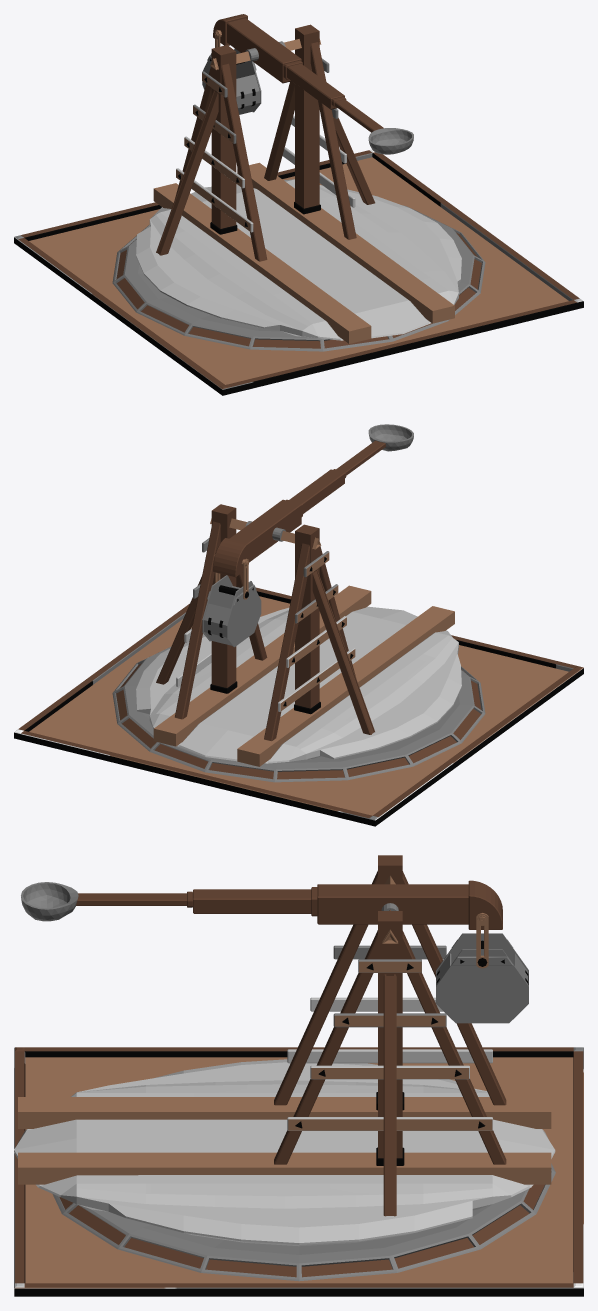
The model's file is AllJoin.fbx.
3 renders of one model, top to bottom at view 1: azimuth 30°, elevation 25°; view 2: azimuth 150°, elevation 25°; view 3: azimuth 270°, elevation 25°, orthographic. The views are drawn at different scales.
Parts seen in each view (by area): view 1: Base; view 2: Base; view 3: Base.
Part boxes in pixels (x1,y1,x2,y2): Base: (14,14,583,395); Base: (14,424,583,826); Base: (14,855,583,1296).
Size of the model in its own units: 600 by 335 by 600.
1 material, 1 textured.
